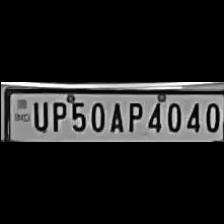0: (87, 98, 107, 132), (163, 100, 181, 132), (202, 100, 220, 132)
4: (182, 100, 202, 132), (144, 99, 162, 133)
5: (66, 98, 86, 132)
A: (106, 99, 124, 134)
P: (122, 99, 142, 133), (47, 97, 66, 132)
U: (28, 98, 48, 132)
